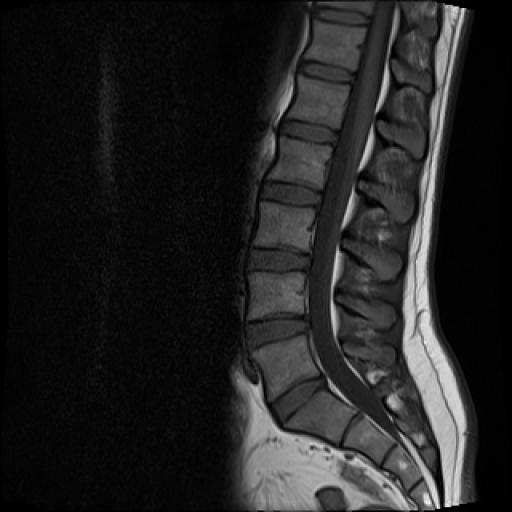L1: (285, 73, 350, 130)
L2: (267, 136, 332, 190)
L3: (253, 201, 315, 252)
L4: (247, 272, 306, 320)
L5: (252, 334, 321, 402)
S1: (284, 388, 357, 446)
